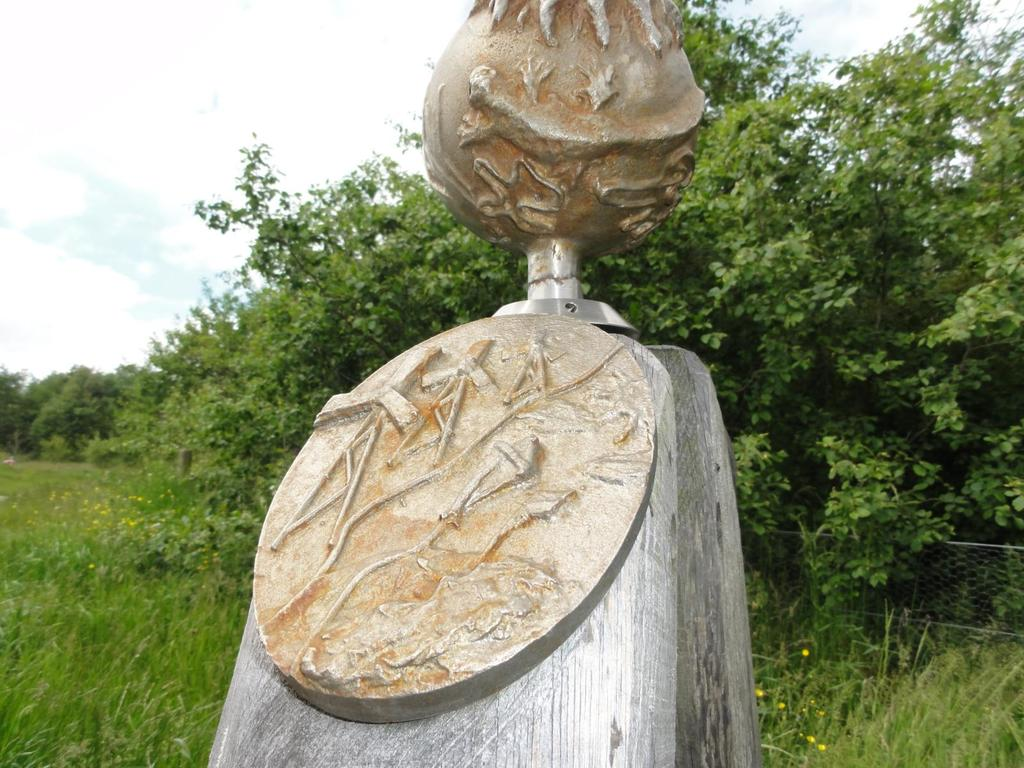Tree: (0, 0, 1024, 619)
